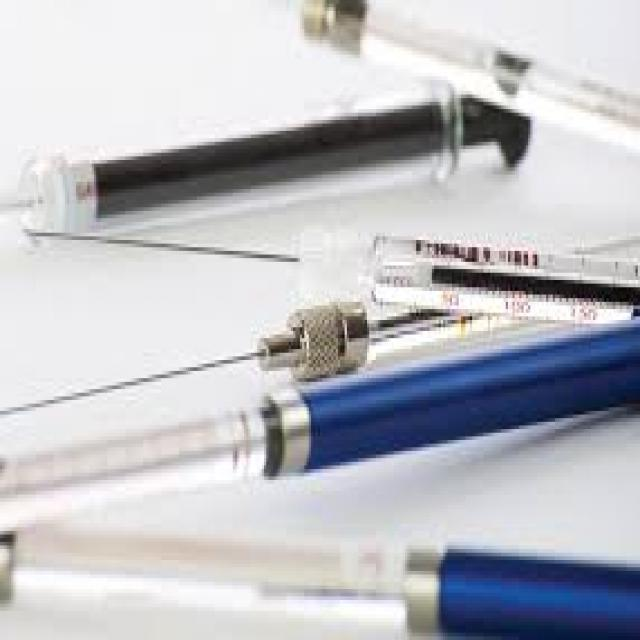syringe: (70, 49, 531, 294)
